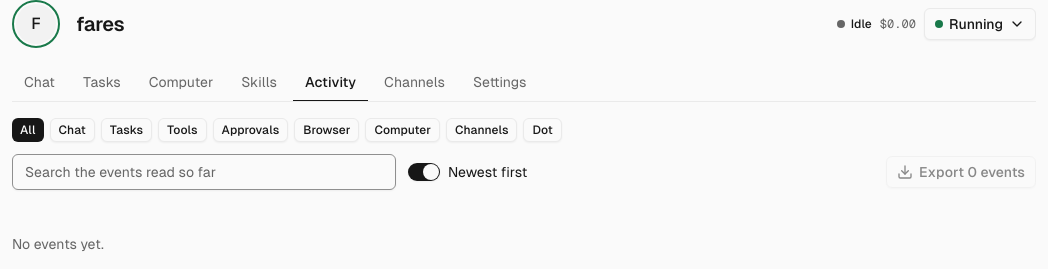
Test: the Activity page › says so when the log is empty, and when a family has nothing yet
Check: the heading "fares" is shown, box [76,13,124,35]
Check: the text "No events yet." is shown, box [12,236,104,252]
Click the button "Tasks".
click(126, 130)  # box [101,118,152,142]
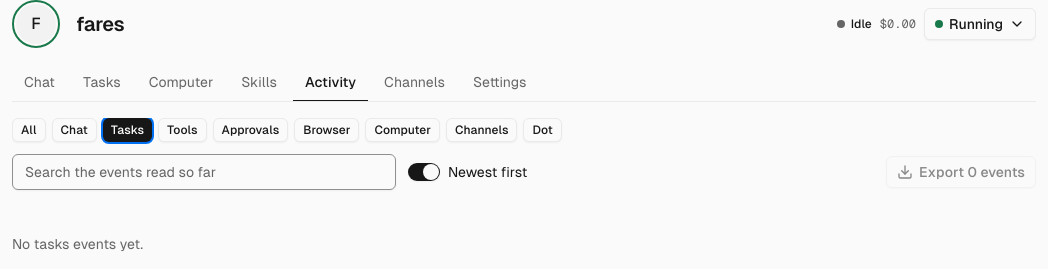
Check: the text "No tasks events yet." is shown, box [12,236,143,252]
